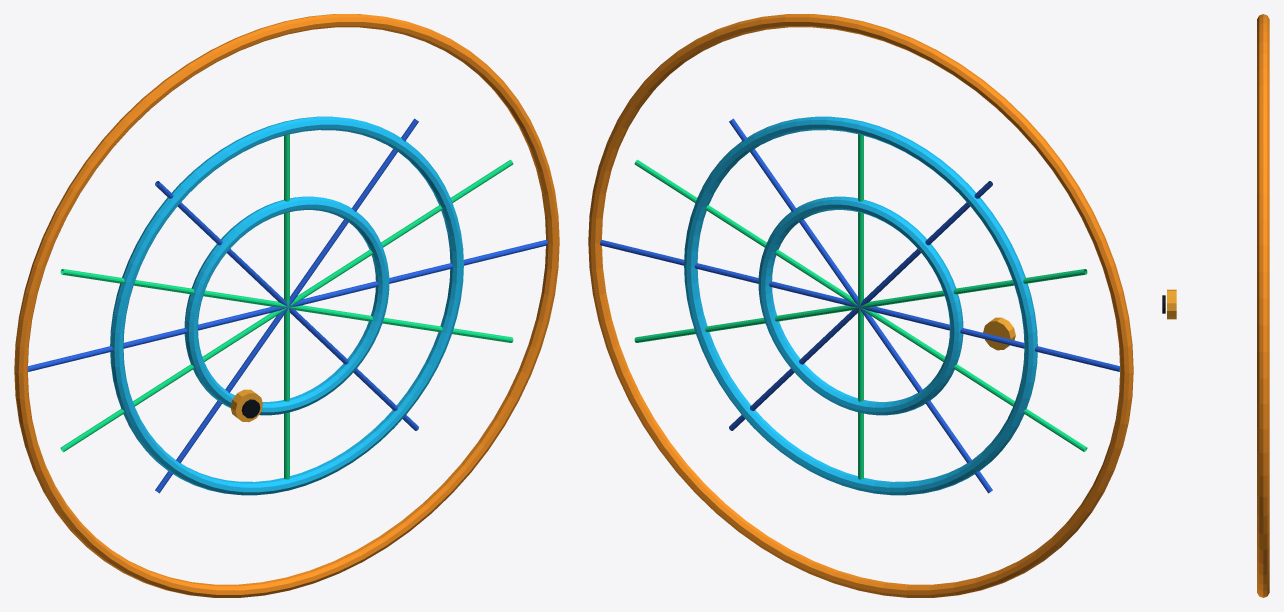
The model's file is 28_L87_MagneticFluxVisualizationHologram.fbx.
3 renders of one model, left to right at view 1: azimuth 30°, elevation 25°; view 2: azimuth 150°, elevation 25°; view 3: azimuth 270°, elevation 25°, orthographic. The views are drawn at different scales.
Parts seen in each view (by area): view 1: L87_MagneticFluxVisualizationHologram_Part_0001, L87_MagneticFluxVisualizationHologram_Part_0000, L87_MagneticFluxVisualizationHologram_Part_0003, L87_MagneticFluxVisualizationHologram_Part_0002; view 2: L87_MagneticFluxVisualizationHologram_Part_0001, L87_MagneticFluxVisualizationHologram_Part_0000, L87_MagneticFluxVisualizationHologram_Part_0003, L87_MagneticFluxVisualizationHologram_Part_0002; view 3: L87_MagneticFluxVisualizationHologram_Part_0001, L87_MagneticFluxVisualizationHologram_Part_0004.
Boxes of the visible parts, x1,y1,x2,y2 form: L87_MagneticFluxVisualizationHologram_Part_0001: (14, 14, 559, 597); L87_MagneticFluxVisualizationHologram_Part_0000: (110, 116, 463, 495); L87_MagneticFluxVisualizationHologram_Part_0003: (60, 134, 513, 479); L87_MagneticFluxVisualizationHologram_Part_0002: (28, 118, 547, 493); L87_MagneticFluxVisualizationHologram_Part_0001: (588, 14, 1133, 597); L87_MagneticFluxVisualizationHologram_Part_0000: (684, 116, 1037, 495); L87_MagneticFluxVisualizationHologram_Part_0003: (634, 134, 1087, 479); L87_MagneticFluxVisualizationHologram_Part_0002: (600, 118, 1119, 493); L87_MagneticFluxVisualizationHologram_Part_0001: (1257, 14, 1269, 597); L87_MagneticFluxVisualizationHologram_Part_0004: (1167, 289, 1176, 319).
Bounding box in the file's own units: 256 × 256 × 46.96.
